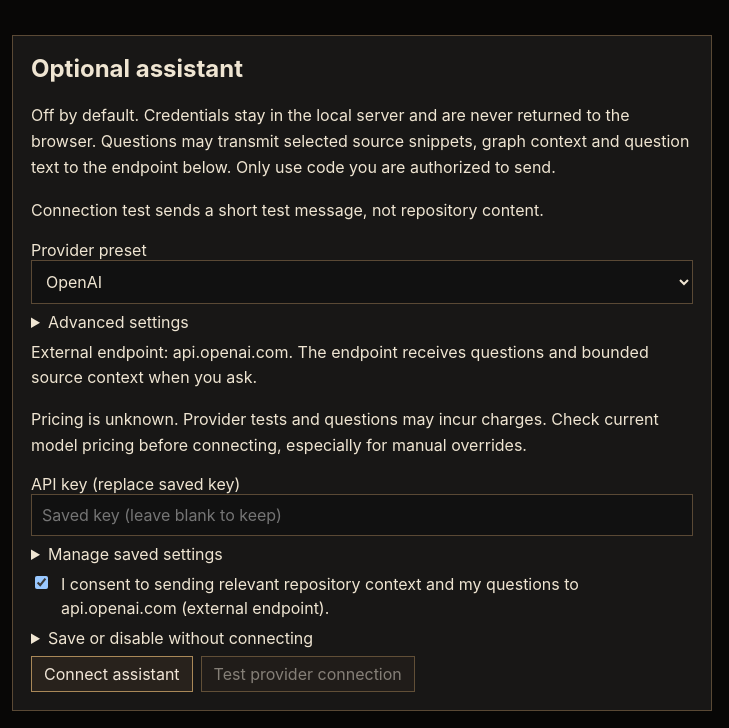
does not claim a connection for an invalid test response
The width and height of the screenshot is (729, 728).
(page scrolled)
Expected: the checkbox labelled "consent" is checked, left=35, top=576, right=48, bottom=589
Click the button "Connect assistant". click: click(112, 674)
box: left=31, top=656, right=193, bottom=692
(page scrolled)
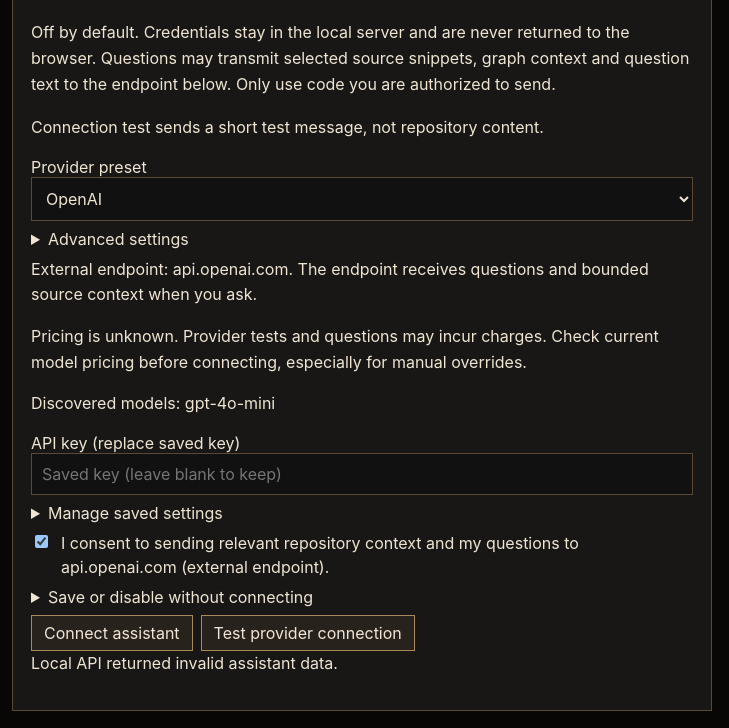
Expected: the text "Local API returned invalid assistant data." is shown, left=31, top=653, right=338, bottom=673
